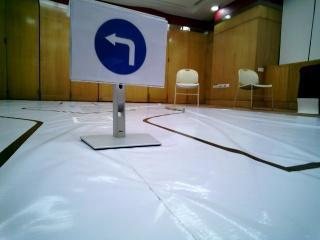left: (77, 2, 164, 89)
